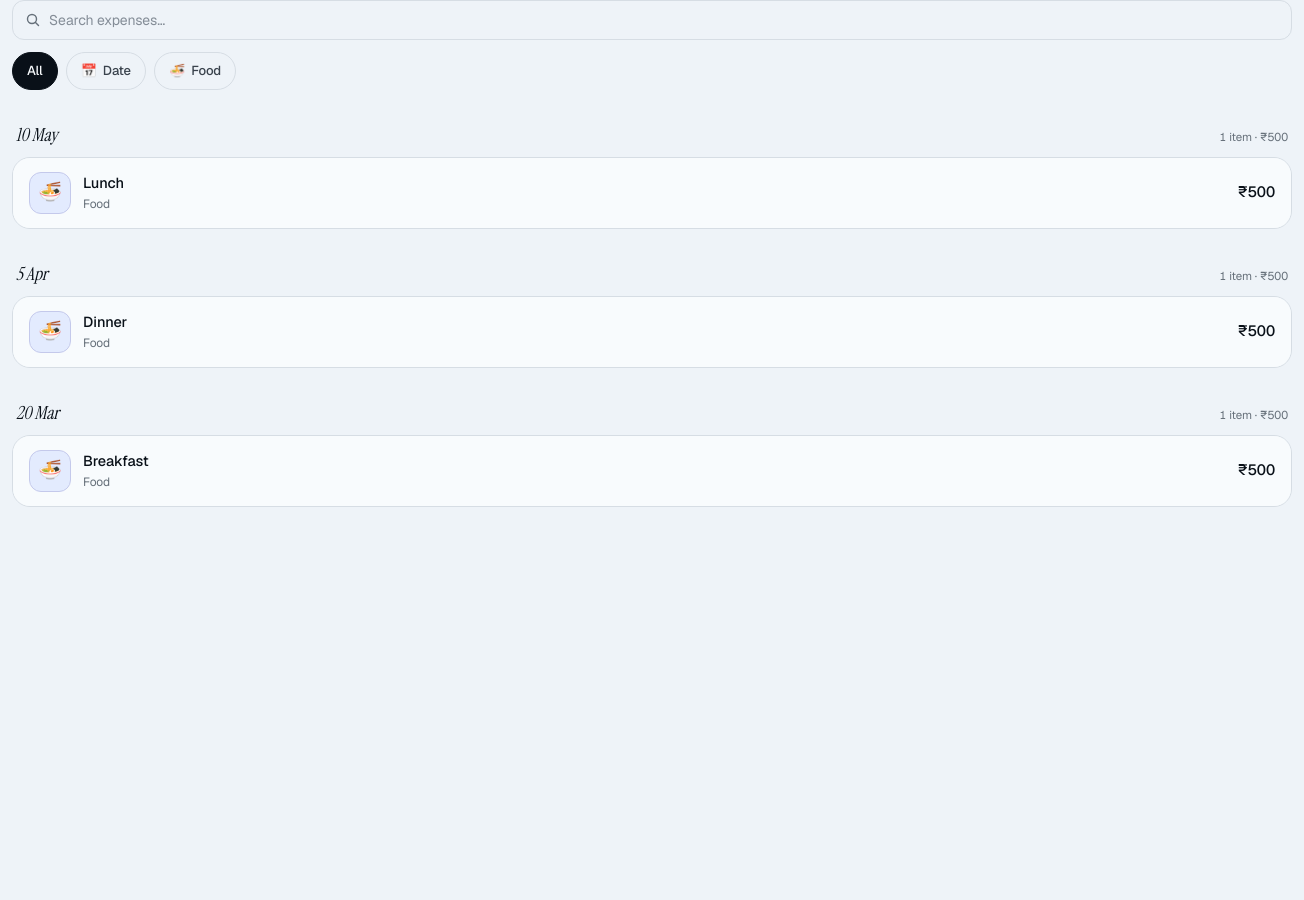
it: MobileExpenses — opening the date row › tapping the Date chip reveals Apply and Clear buttons
Click the button "📅 Date". click: (106, 71)
box: [66, 52, 146, 90]
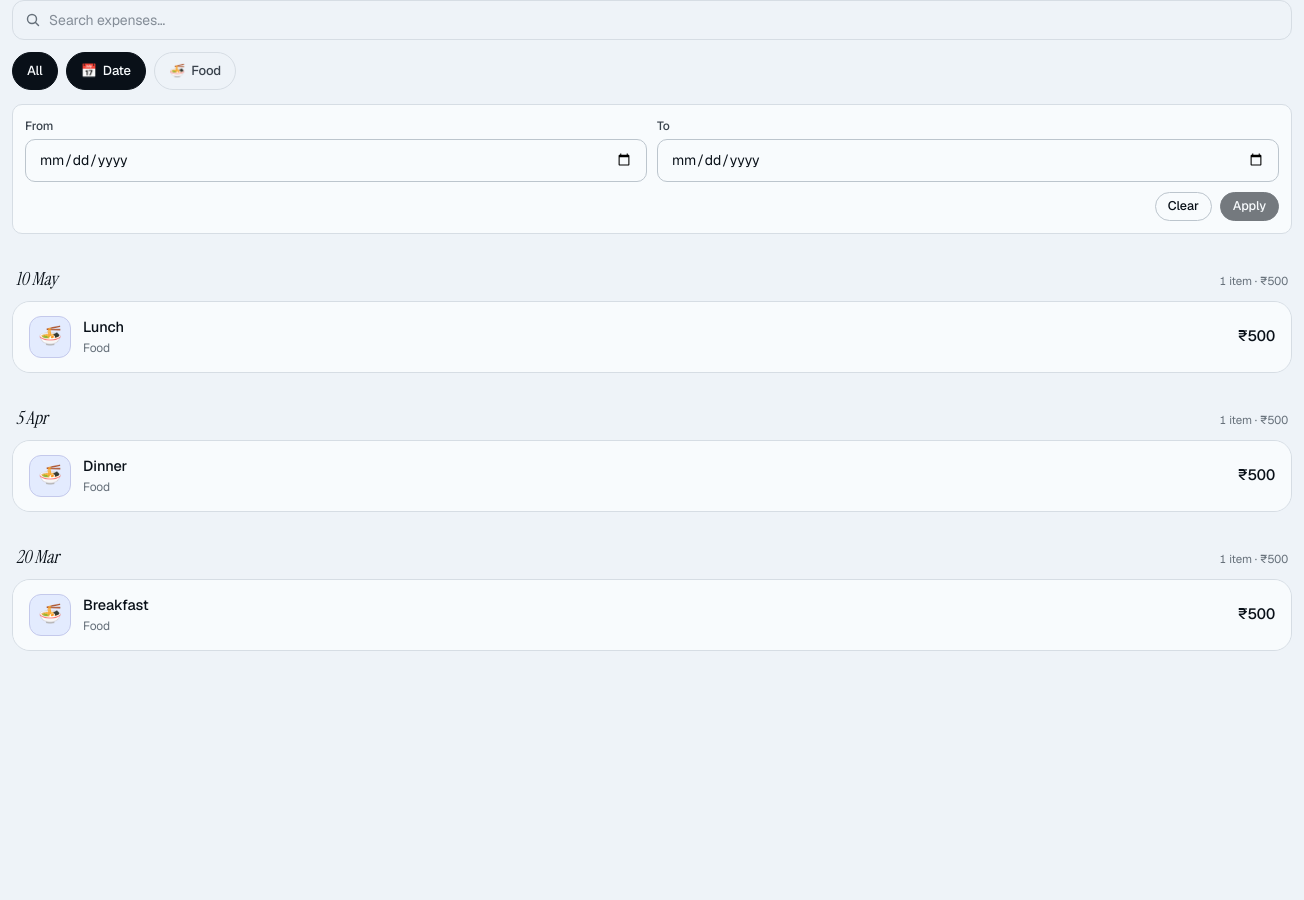
Now the button "Apply" is shown, box [1220, 192, 1279, 221]
Now the button "Clear" is shown, box [1155, 192, 1212, 221]
